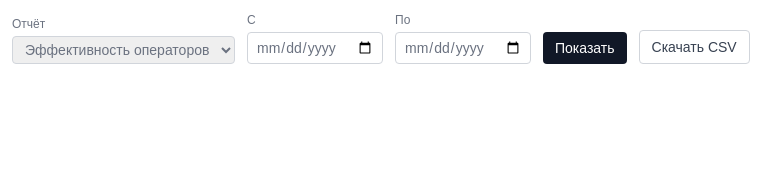
Test: ReportControls › «Скачать CSV»: ошибка action → role=alert, без скачивания
This screenshot has width=767, height=172.
Click the button "Скачать CSV" at [694, 47], box x1=638 y1=30 x2=750 y2=64
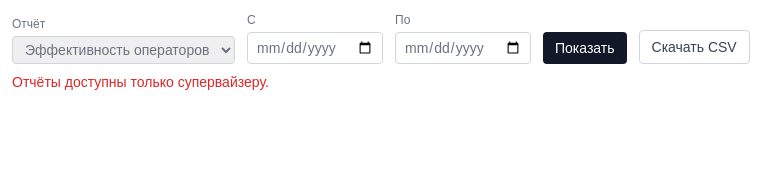
Expected: the message reads "Отчёты доступны только супервайзеру.", x1=12 y1=74 x2=269 y2=90
